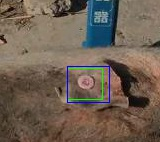text: (67, 68, 102, 99)
